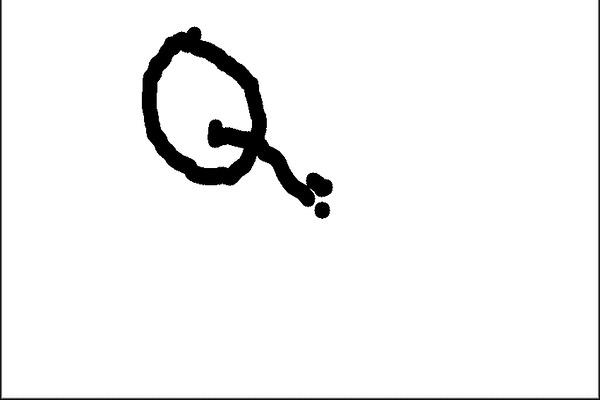Q: (130, 23, 302, 196)
